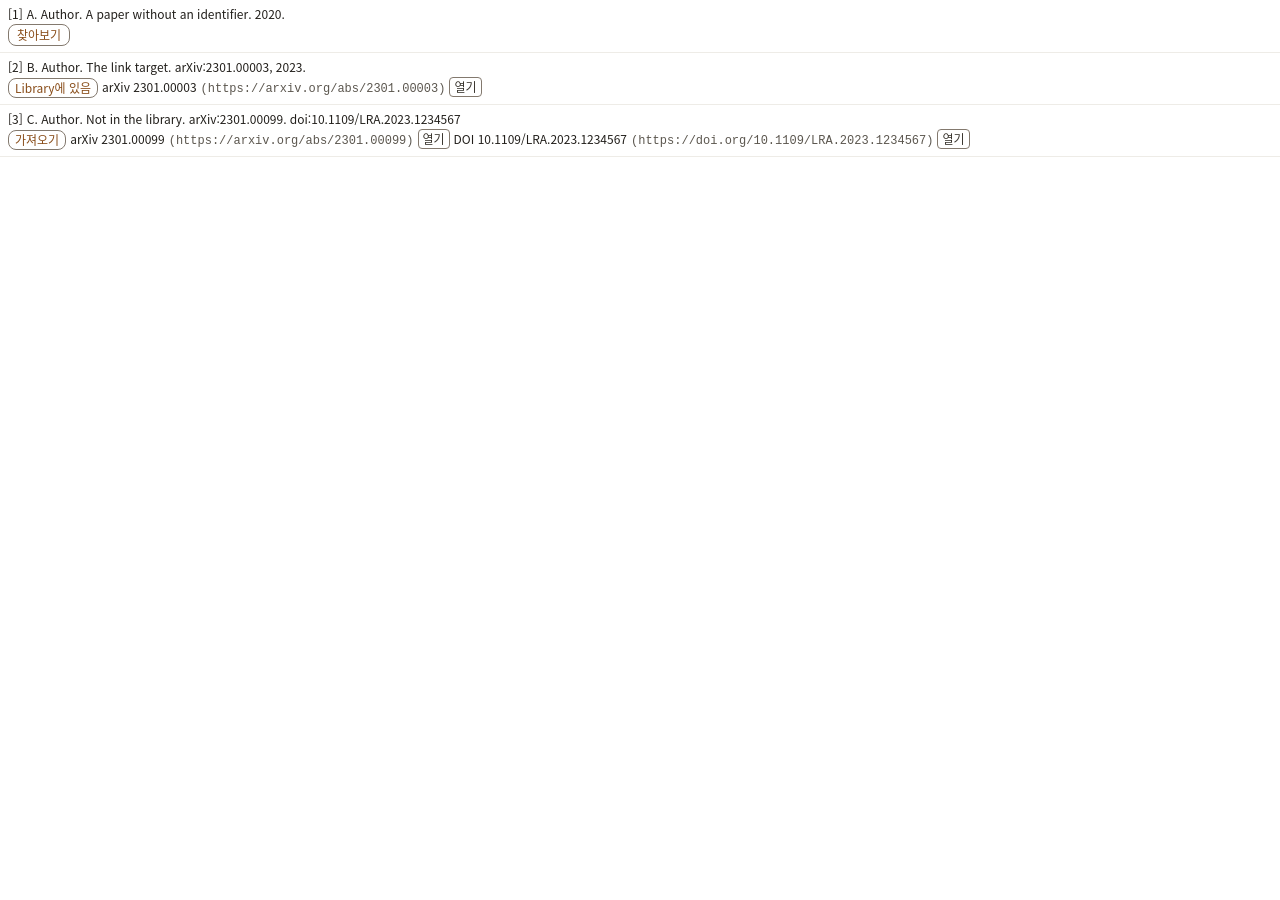
Test case: ReferencesTab › DOI / arXiv pages only through the "열기" confirmation
What coordinates should you click on to do the following:
click the button with test id "sp-ext-open" next to "https://doi.org/10.1109/LRA.2023.1234567"
I would click on:
 (954, 139)
Its box is [938,129,970,149].
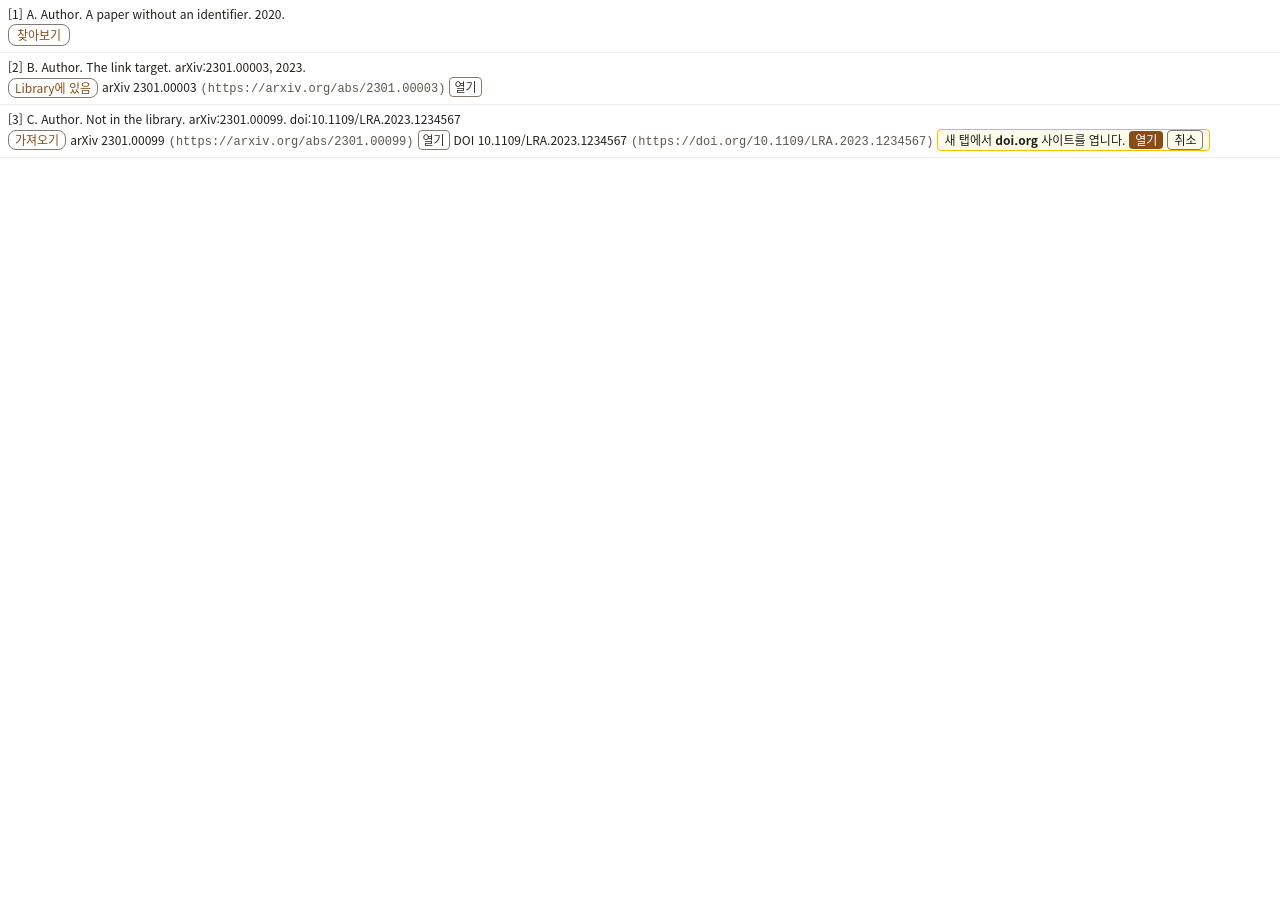
Expected: the dialog with test id "sp-ext-confirm" shows "doi.org", [995,131,1038,148]
